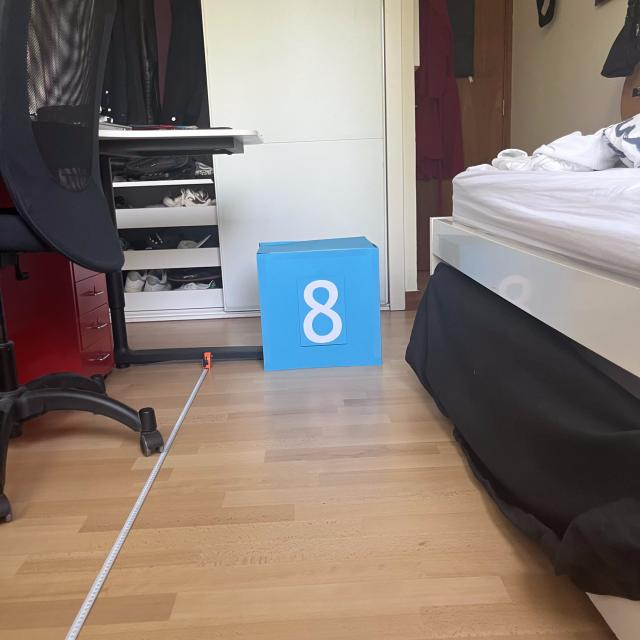box: (252, 232, 386, 372)
